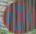No Stopping: (2, 0, 35, 32)
